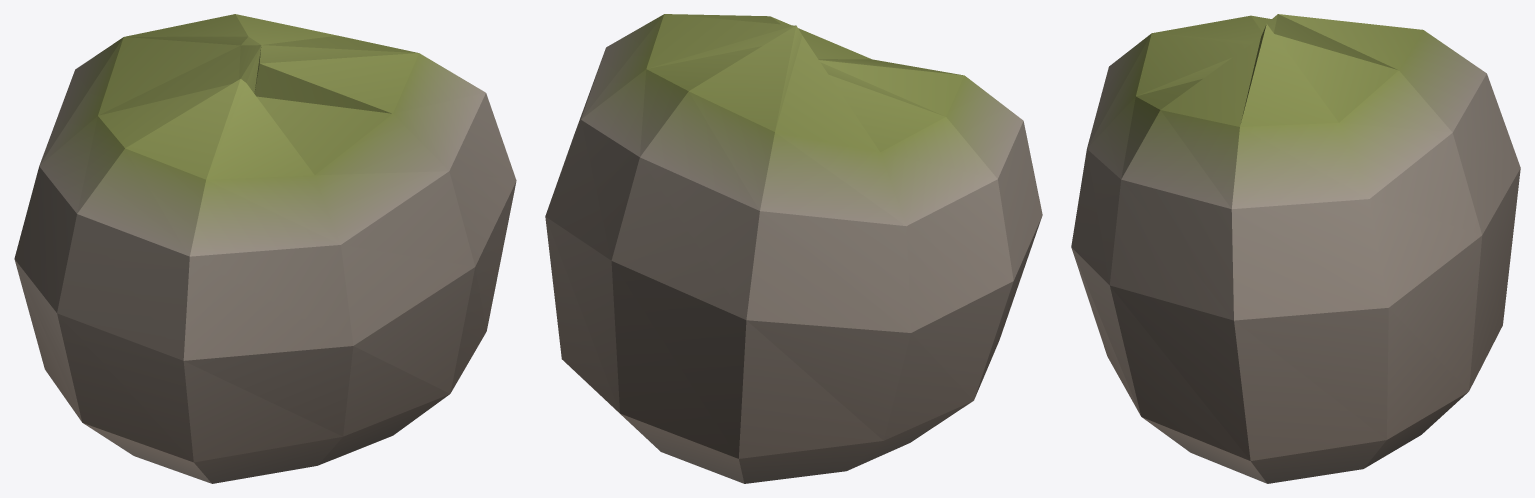
Rendered from Stone.glb.
The picture shows the model from 3 angles, left to right: view 1: azimuth 30°, elevation 25°; view 2: azimuth 150°, elevation 25°; view 3: azimuth 270°, elevation 25°; orthographic projection.
Parts seen in each view (by area): view 1: Mineral; view 2: Mineral; view 3: Mineral.
Part boxes in pixels (x1,y1,x2,y2): Mineral: (14,14,516,483); Mineral: (545,14,1042,483); Mineral: (1071,14,1520,483).
Bounding box in the file's own units: 0.3249 × 0.2695 × 0.2817.
